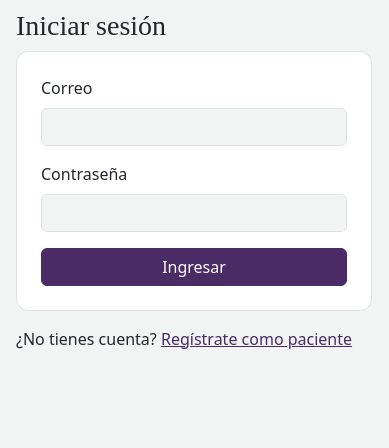
it: Login, casos extra › pide completar correo y contraseña si falta alguno
This screenshot has width=389, height=448.
Type "admin@nutrivida.cl" into the field labelled "Correo" at (194, 127), box x1=41 y1=108 x2=347 y2=146
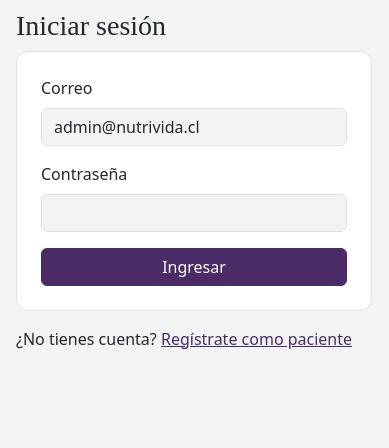
Click the button "Ingresar" at (194, 267), box x1=41 y1=248 x2=347 y2=286
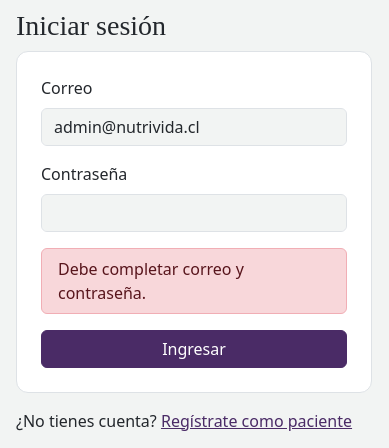
Now the message reads "Debe completar correo y contraseña.", box x1=58 y1=258 x2=244 y2=304
